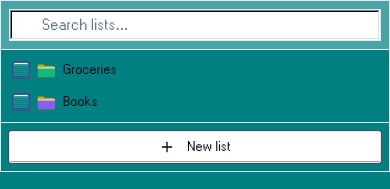
Test: ListPicker › filters lists when searching
Type "groc" into the field with placeholder "Search lists…" at (195, 25), box [9,9,381,41]
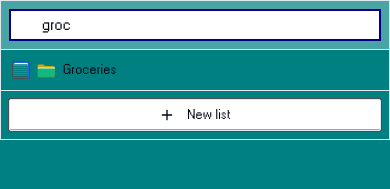
Expected: the text "Groceries" is shown, [63,60,117,80]
Expected: the text "Books" is gone
